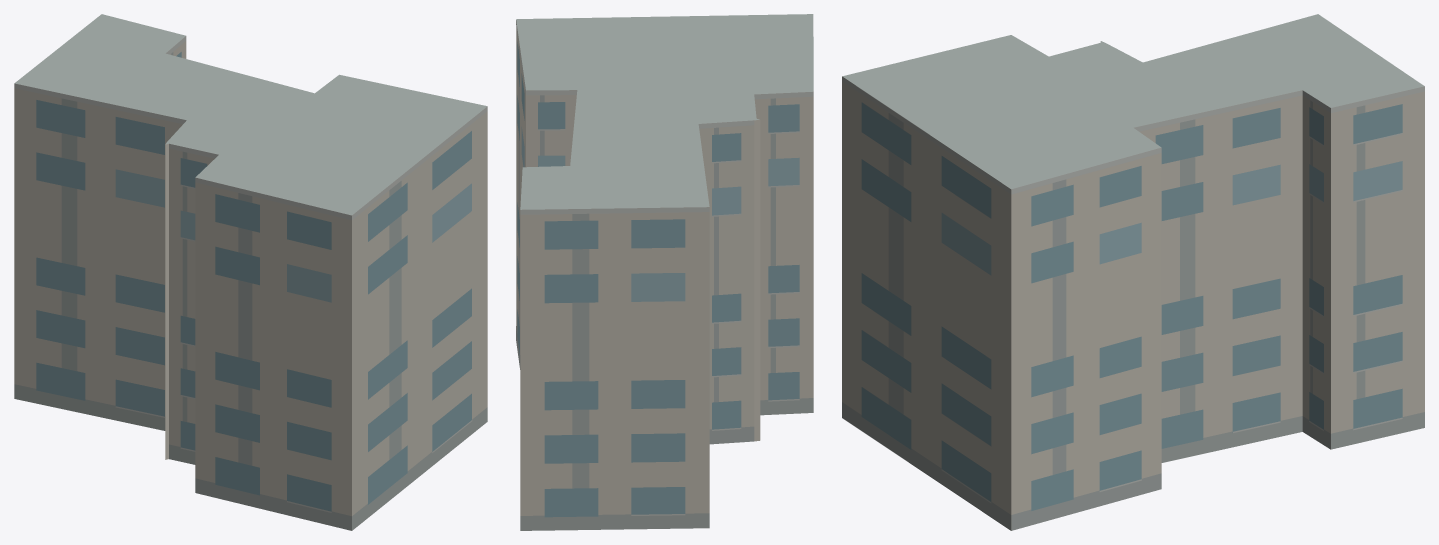
File: survey-upis-32862692.glb
3 renders of one model, left to right at view 1: azimuth 30°, elevation 25°; view 2: azimuth 150°, elevation 25°; view 3: azimuth 270°, elevation 25°, orthographic. The views are drawn at different scales.
Parts seen in each view (by area): view 1: survey-upis-32862692.tmp; view 2: survey-upis-32862692.tmp; view 3: survey-upis-32862692.tmp.
Boxes of the visible parts, x1=… form: survey-upis-32862692.tmp: x1=14, y1=14, x2=487, y2=530; survey-upis-32862692.tmp: x1=516, y1=14, x2=813, y2=530; survey-upis-32862692.tmp: x1=842, y1=14, x2=1424, y2=530.
Size of the model in its own units: 17.4 by 15.8 by 24.44.
